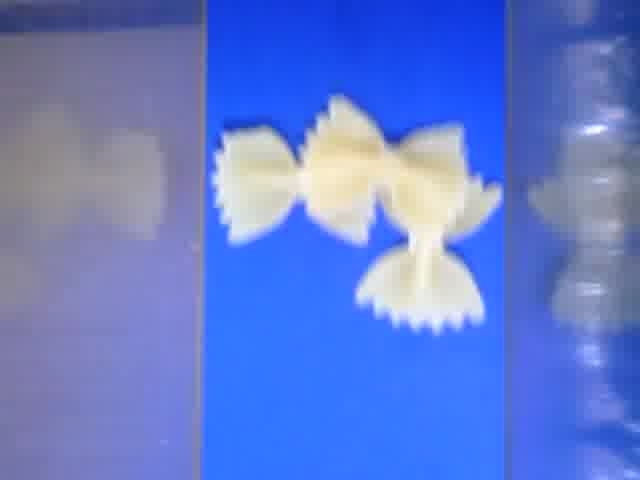farfalle: (355, 168, 508, 330), (217, 127, 371, 248)
